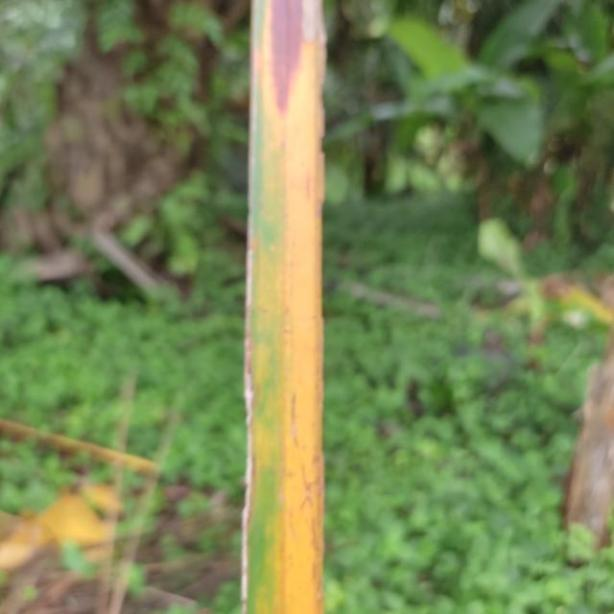Megnesium: (238, 0, 326, 614)
